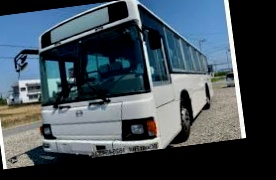bus: (24, 0, 220, 163)
